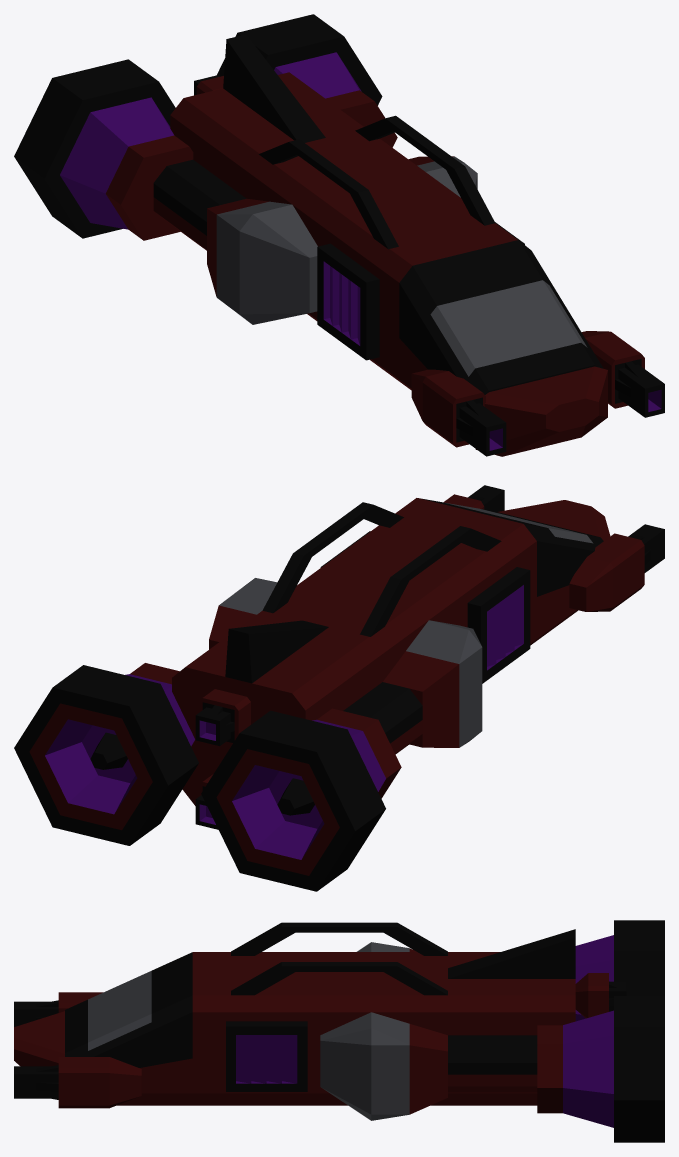
File: ship_2.fbx
3 renders of one model, top to bottom at view 1: azimuth 30°, elevation 25°; view 2: azimuth 150°, elevation 25°; view 3: azimuth 270°, elevation 25°, orthographic. The views are drawn at different scales.
Visible parts, largest first — view 1: mergedBlocks; view 2: mergedBlocks; view 3: mergedBlocks.
Boxes of the visible parts, x1,y1,x2,y2 form: mergedBlocks: (14, 14, 664, 456); mergedBlocks: (14, 485, 664, 891); mergedBlocks: (14, 920, 664, 1142).
Size of the model in its own units: 25.55 by 13.5 by 51.
